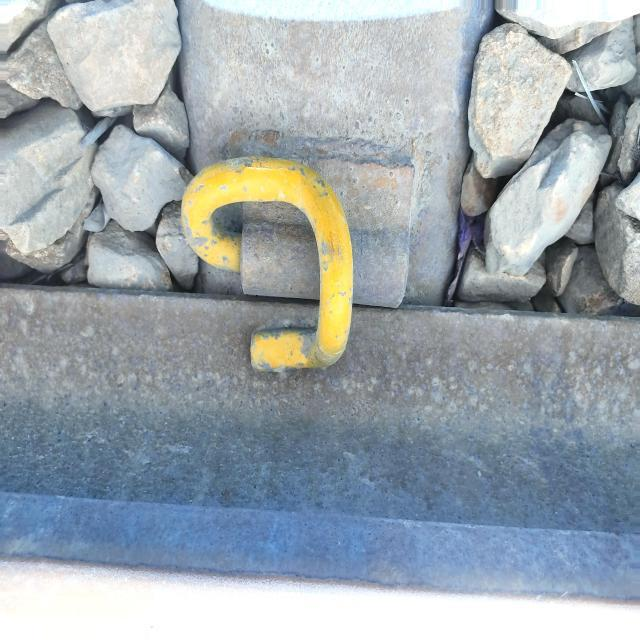Good Fasteners: (182, 137, 414, 372)
